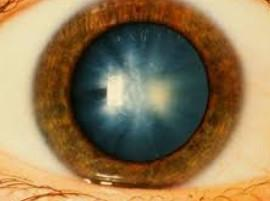eye: (35, 0, 248, 191)
